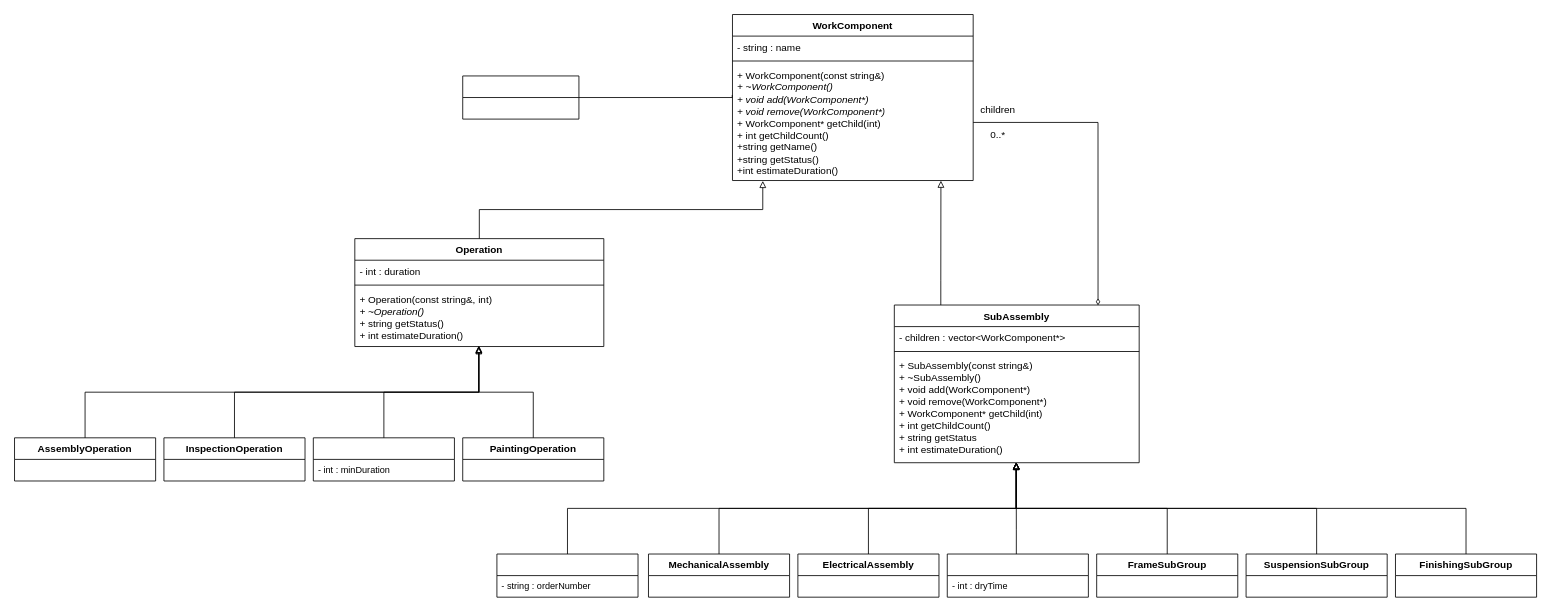
Some shapes in this 1551 by 614 pixel diagram are drawn without their labels. Here are the shapes that lost their labels. From the top down, the box of each, then its label:
(462, 75, 579, 119): Client
(312, 437, 454, 481): WeldingOperation
(496, 553, 638, 597): ProductionOrder
(946, 553, 1088, 597): PaintAndFinishAssembly
